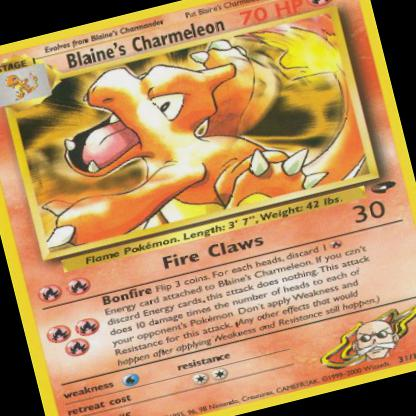Charmeleon: (42, 11, 368, 245)
